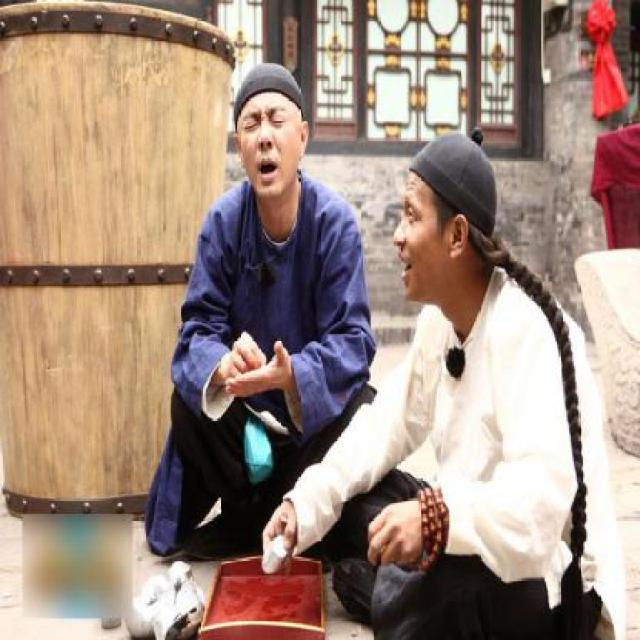Person: (320, 121, 615, 639), (165, 24, 369, 493)
